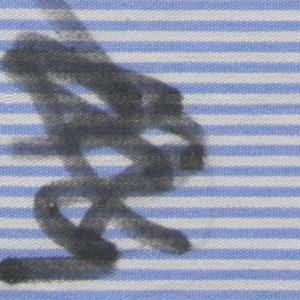Stain: (1, 1, 215, 293)
